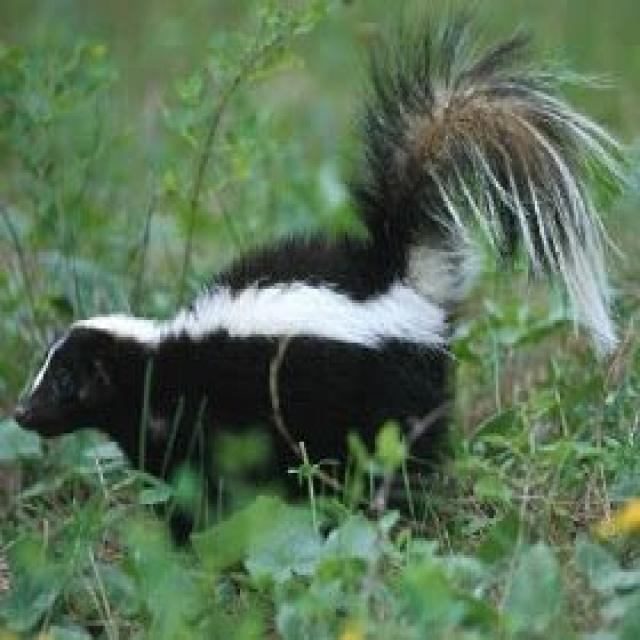Skunk: (14, 78, 598, 488)
